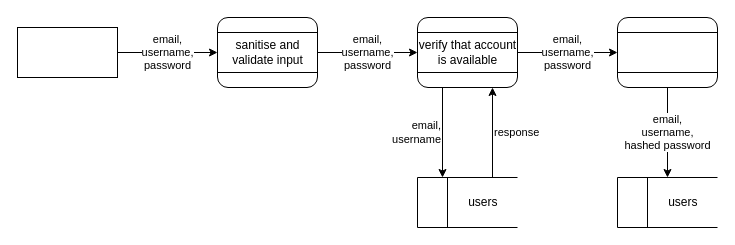
This 735x245 diagram has some shape labels left out. Here are the shapes that lost their labels. From the top down, the centre of each, then its label:
At (x=67, y=52): "user".
At (x=667, y=52): "create account".
